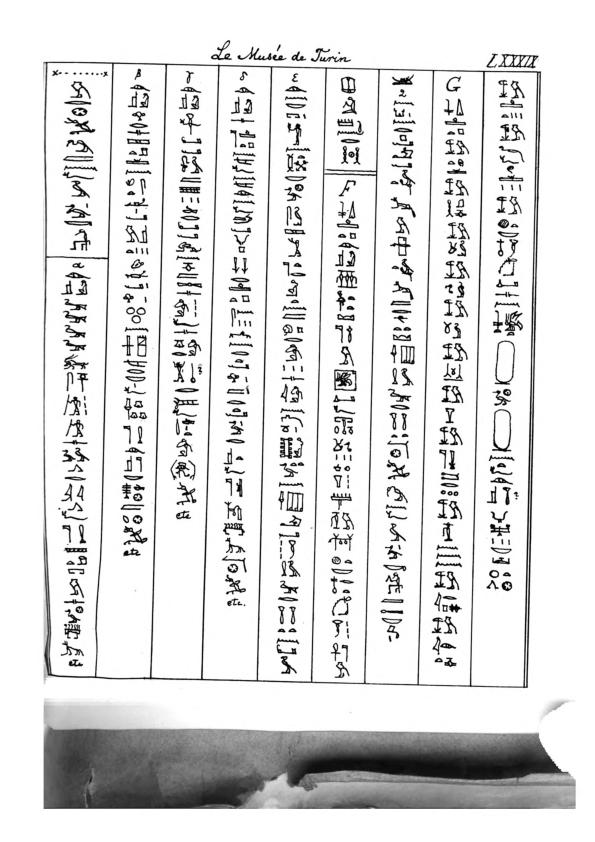circle: (494, 338, 516, 388), (492, 408, 511, 453)
